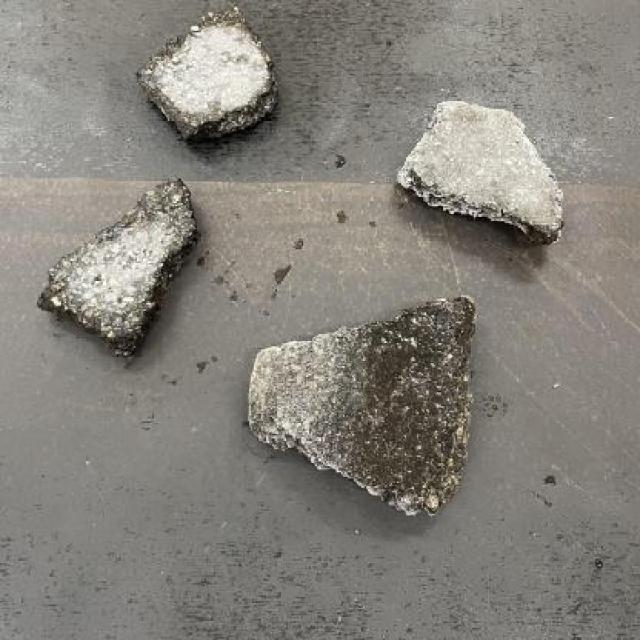Road Debris: (342, 296, 493, 498), (53, 186, 199, 351), (142, 12, 270, 137), (416, 109, 510, 217)
